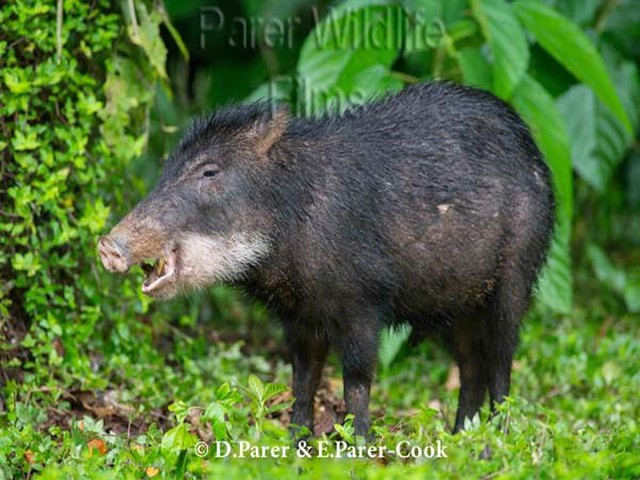Pig: (91, 75, 573, 427)
